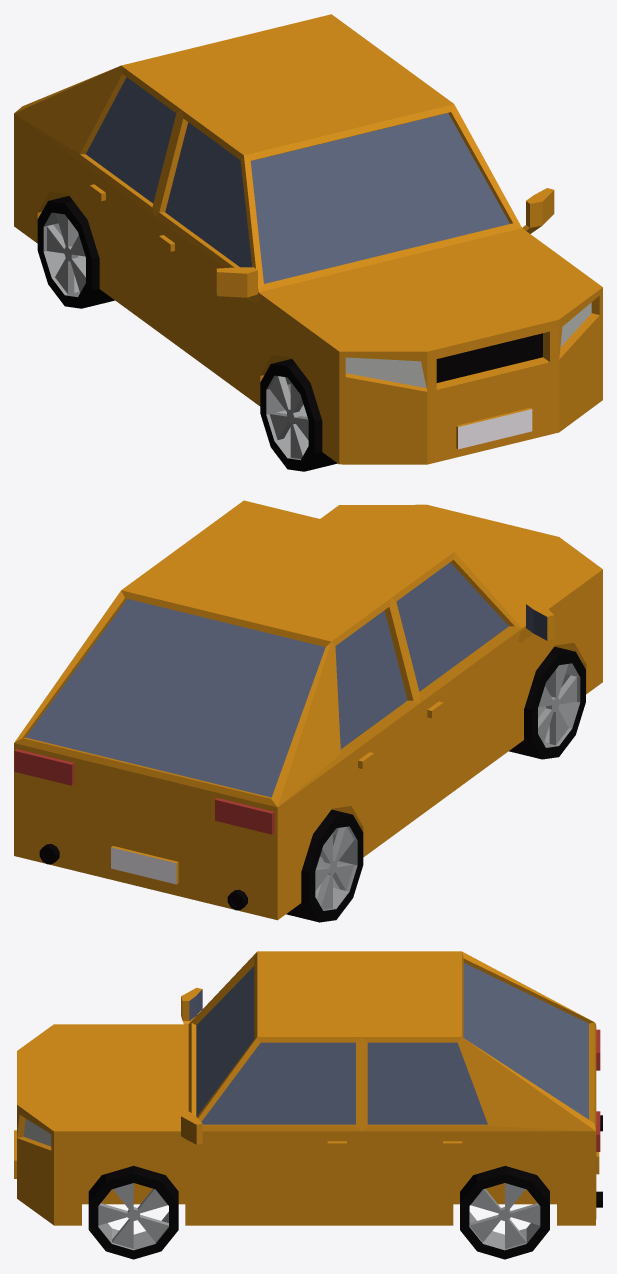
Rendered from hatchback.glb.
The picture shows the model from 3 angles, top to bottom: view 1: azimuth 30°, elevation 25°; view 2: azimuth 150°, elevation 25°; view 3: azimuth 270°, elevation 25°; orthographic projection. The views are drawn at different scales.
Parts seen in each view (by area): view 1: paint, glass, wheel_fr, wheel_rr, headlights; view 2: paint, glass, wheel_rr, wheel_fr, taillights; view 3: paint, glass, wheel_fl, wheel_rl, headlights.
Part boxes in pixels (x1,y1,x2,y2): paint: (14, 14, 602, 464); glass: (86, 77, 509, 283); wheel_fr: (260, 359, 337, 471); wheel_rr: (37, 196, 114, 308); headlights: (345, 302, 591, 387); paint: (14, 500, 602, 920); glass: (26, 562, 547, 797); wheel_rr: (286, 809, 363, 922); wheel_fr: (509, 646, 585, 759); taillights: (14, 749, 274, 834); paint: (14, 951, 602, 1225); glass: (189, 963, 588, 1124); wheel_fl: (88, 1166, 178, 1259); wheel_rl: (460, 1166, 549, 1259); headlights: (23, 1118, 51, 1146).
Size of the model in its own units: 1.76 by 1.26 by 3.19.
